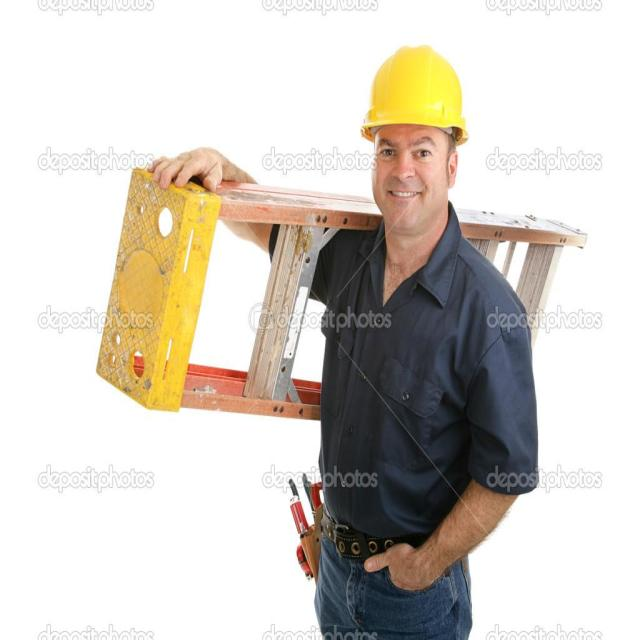Face: (369, 122, 459, 242)
